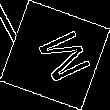M_SW: (23, 23, 87, 87)
